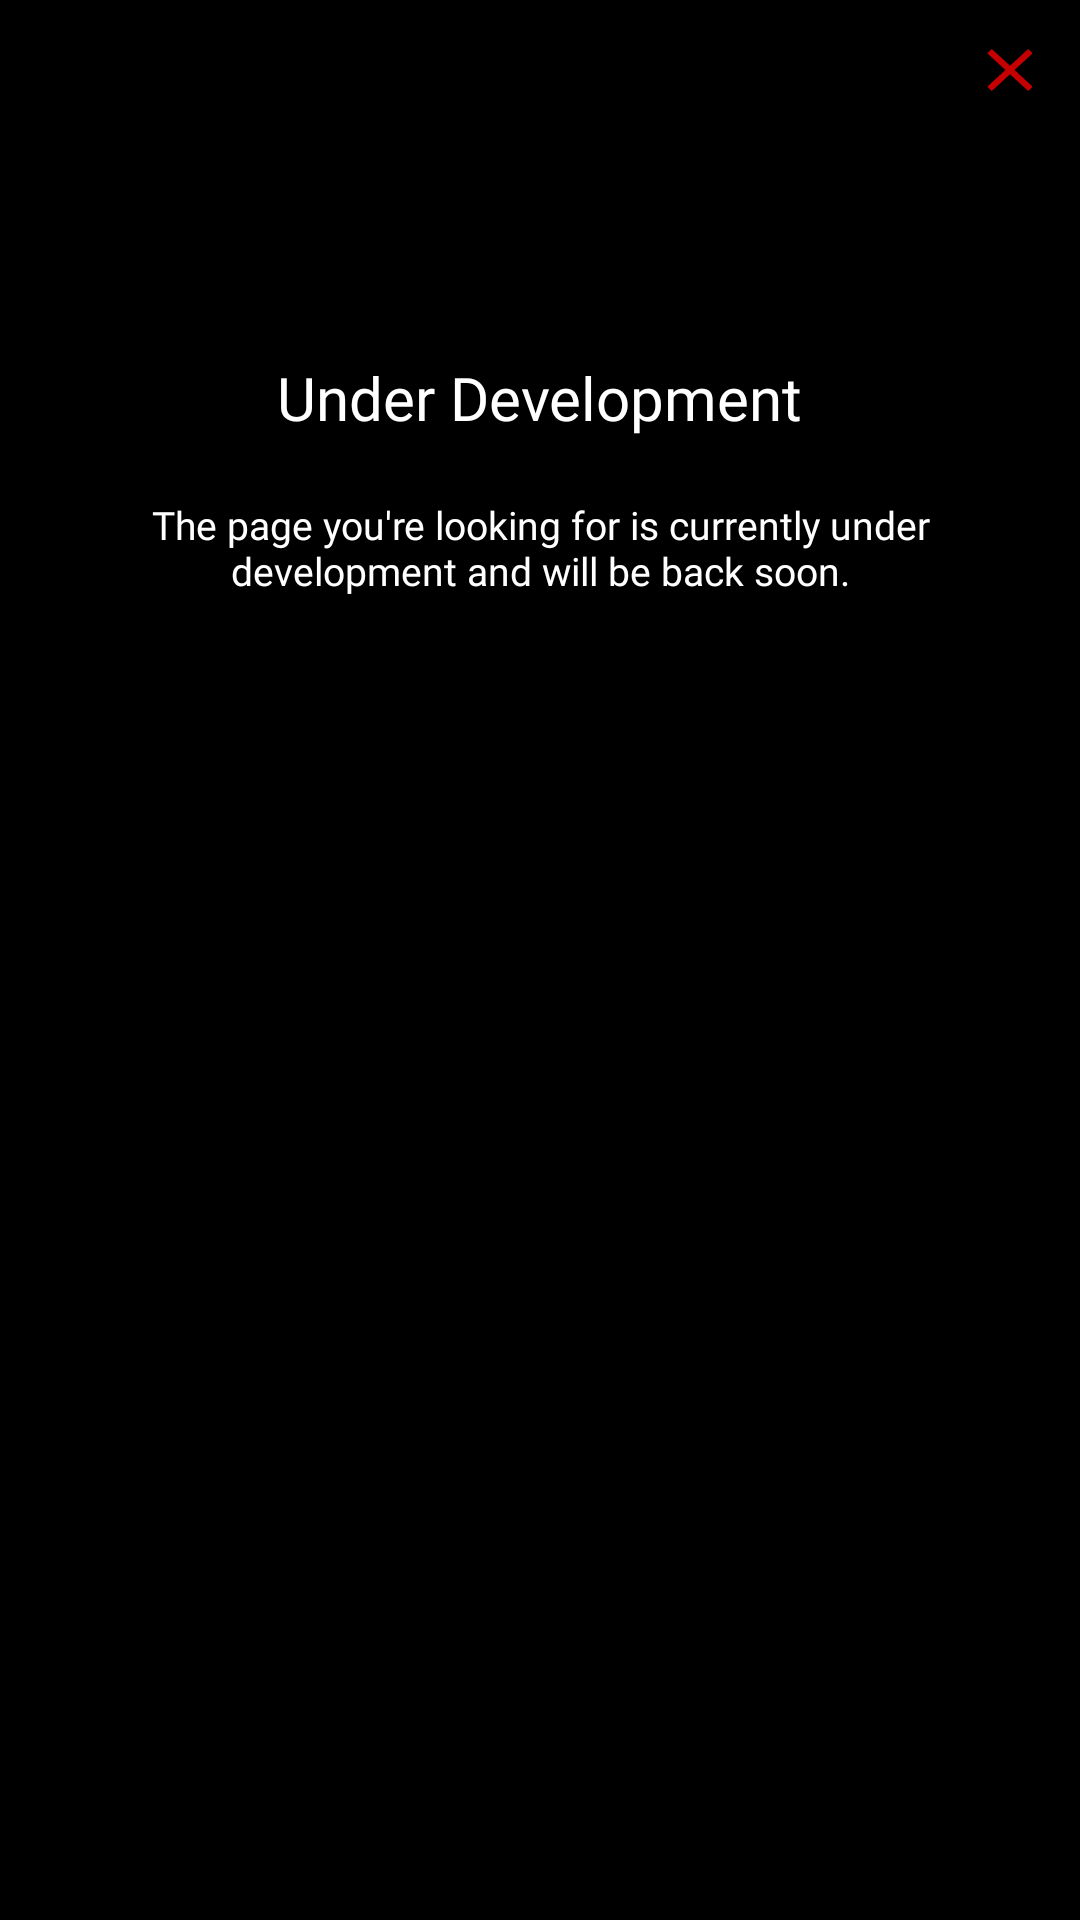

Icon bounding boxes for this 1080×1920 phone screenshot, format (x1, y1, x2, y2):
close: (987, 49, 1032, 91)
